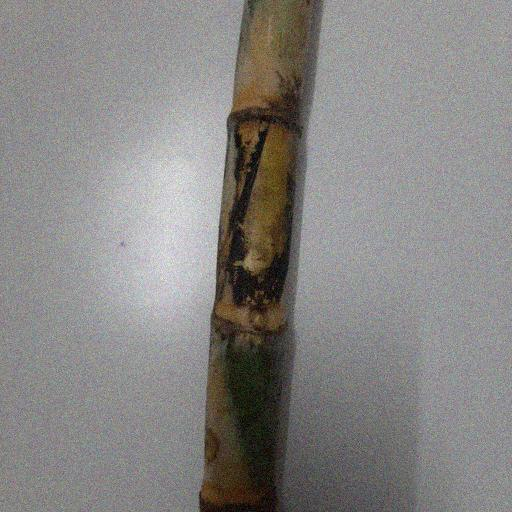Bud: (246, 303, 270, 334)
